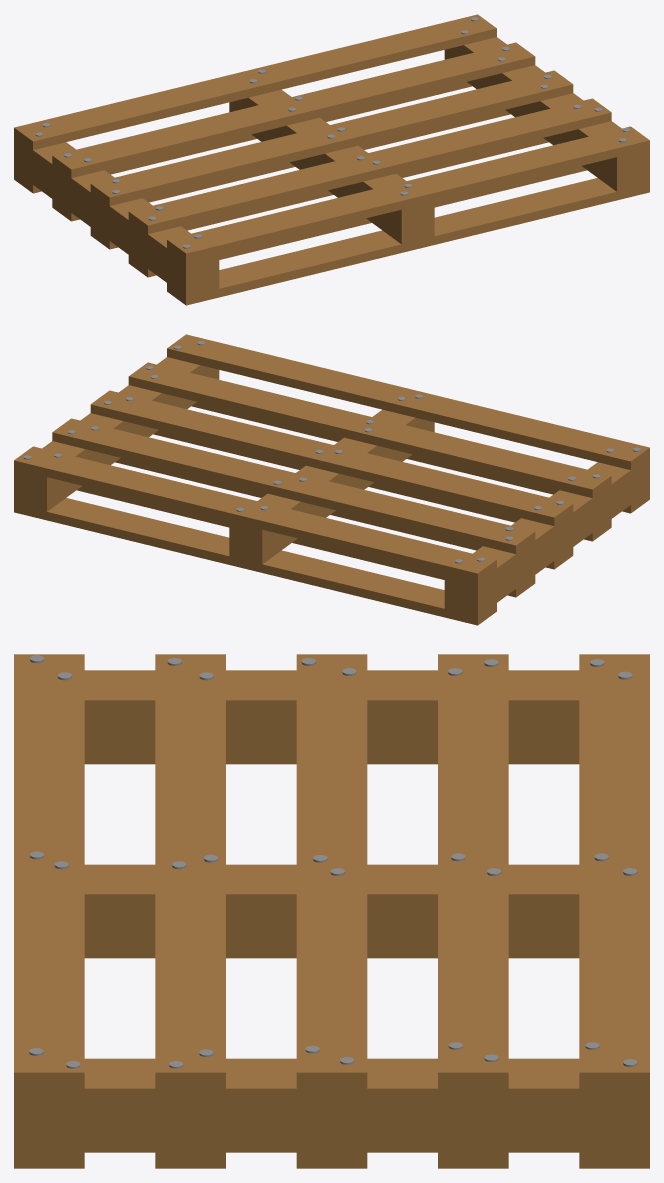
Rendered from palette.fbx.
The picture shows the model from 3 angles, top to bottom: view 1: azimuth 30°, elevation 25°; view 2: azimuth 150°, elevation 25°; view 3: azimuth 270°, elevation 25°; orthographic projection. The views are drawn at different scales.
Parts seen in each view (by area): view 1: planks_top, planks_bottom, planks_center; view 2: planks_top, planks_bottom, planks_center; view 3: planks_top, planks_center, planks_bottom, nails_top_center, nails_top_left, nails_top_right.
Part boxes in pixels (left/top/right/bottom): planks_top: left=14, top=14, right=649, bottom=262; planks_bottom: left=14, top=82, right=649, bottom=305; planks_center: left=14, top=37, right=649, bottom=296; planks_top: left=14, top=334, right=649, bottom=582; planks_bottom: left=14, top=402, right=649, bottom=625; planks_center: left=14, top=357, right=649, bottom=616; planks_top: left=14, top=654, right=649, bottom=1088; planks_center: left=14, top=670, right=649, bottom=1152; planks_bottom: left=14, top=1152, right=649, bottom=1168; nails_top_center: left=30, top=851, right=637, bottom=875; nails_top_left: left=30, top=655, right=632, bottom=680; nails_top_right: left=29, top=1042, right=637, bottom=1068.
Size of the model in its own units: 560 by 63.92 by 360.
